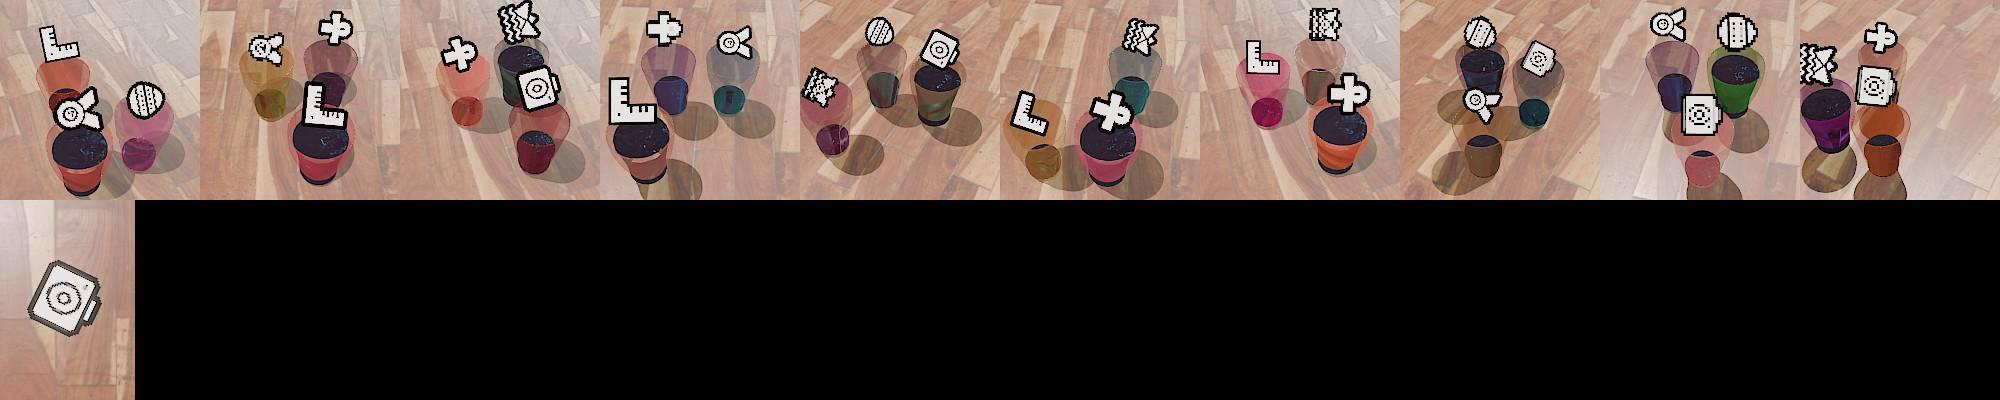icon: (26, 259, 105, 340), (607, 75, 659, 125), (55, 85, 104, 134), (296, 82, 347, 129), (516, 65, 563, 112), (1327, 70, 1372, 116), (497, 0, 541, 45), (1680, 92, 1722, 138), (37, 23, 81, 66), (1088, 90, 1132, 132), (1799, 43, 1839, 89), (1856, 65, 1898, 108), (1010, 88, 1048, 135), (919, 28, 960, 71), (1716, 12, 1758, 52), (801, 67, 840, 108), (127, 80, 166, 119), (439, 35, 479, 73), (1520, 39, 1558, 79), (1122, 16, 1159, 56), (1244, 38, 1282, 76), (645, 11, 684, 48), (1464, 87, 1503, 124), (317, 9, 354, 47), (1651, 6, 1689, 43), (716, 24, 755, 60), (247, 31, 286, 66), (1308, 6, 1343, 42), (1864, 21, 1899, 55), (1463, 16, 1496, 50), (865, 16, 895, 47)
